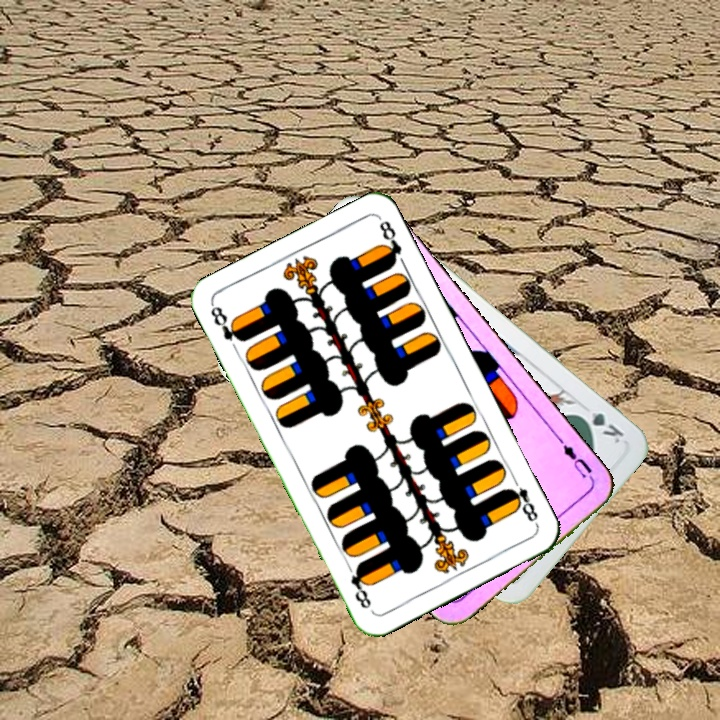E8: (502, 473, 541, 525), (206, 301, 247, 345)
EU: (558, 440, 597, 484)
GK: (573, 407, 626, 446)
